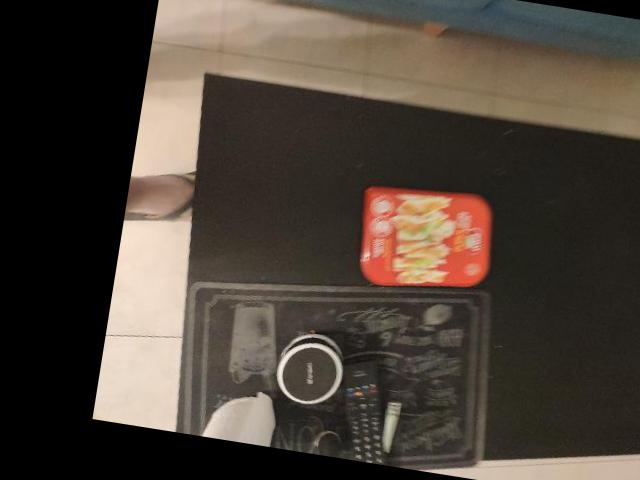cheese: (347, 178, 505, 307)
